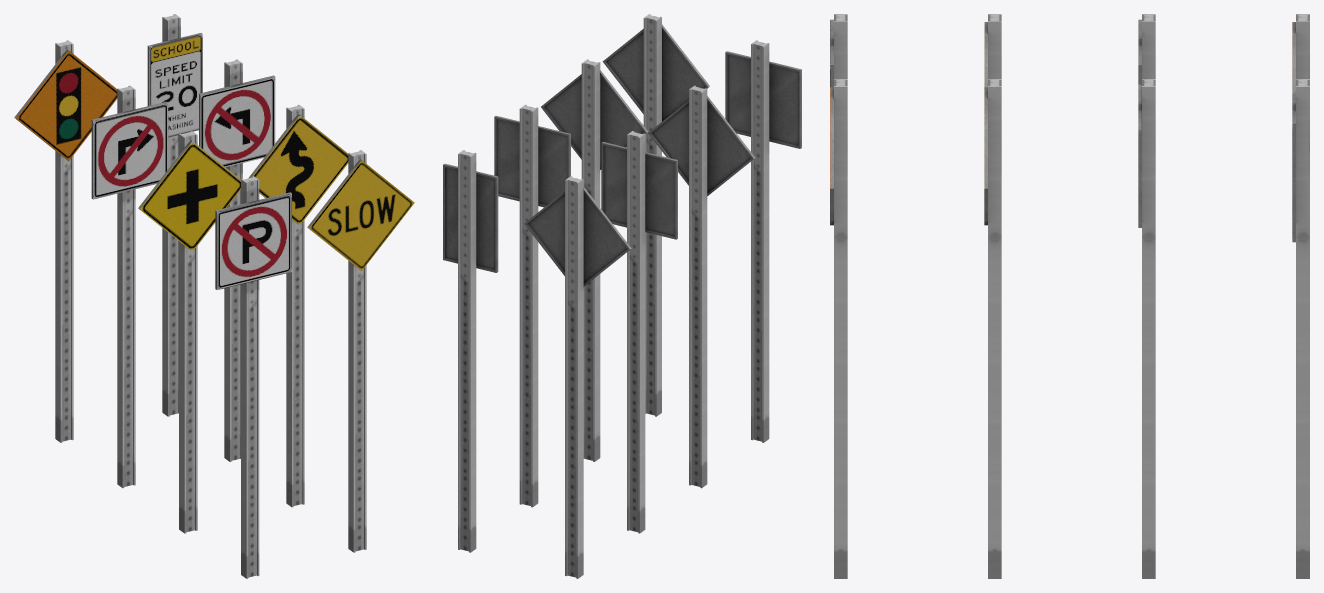
File: UrbanPack2 - RoadSigns.fbx
3 renders of one model, left to right at view 1: azimuth 30°, elevation 25°; view 2: azimuth 150°, elevation 25°; view 3: azimuth 270°, elevation 25°, orthographic. The views are drawn at different scales.
Parts seen in each view (by area): view 1: NoRightTurn, NoParking, SlowAhead, TrafficLightsAhead, CrossRoad, SeriesOfTurns, NoLeftTurn, SchoolZone; view 2: NoParking, NoRightTurn, NoLeftTurn, TrafficLightsAhead, CrossRoad, SchoolZone, SeriesOfTurns, SlowAhead; view 3: SchoolZone, NoLeftTurn, SeriesOfTurns, SlowAhead, NoParking, TrafficLightsAhead, CrossRoad, NoRightTurn.
Part boxes in pixels (<box>): NoRightTurn: <box>91,85,168,488</box>; NoParking: <box>215,176,291,578</box>; SlowAhead: <box>307,150,414,552</box>; TrafficLightsAhead: <box>14,40,117,442</box>; CrossRoad: <box>138,131,240,533</box>; SeriesOfTurns: <box>248,104,348,507</box>; NoLeftTurn: <box>199,59,275,461</box>; SchoolZone: <box>147,14,202,416</box>; NoParking: <box>725,40,801,442</box>; NoRightTurn: <box>601,131,677,533</box>; NoLeftTurn: <box>494,104,570,507</box>; TrafficLightsAhead: <box>524,176,631,578</box>; CrossRoad: <box>648,85,755,488</box>; SchoolZone: <box>443,150,498,552</box>; SeriesOfTurns: <box>541,59,647,461</box>; SlowAhead: <box>602,14,709,416</box>; SchoolZone: <box>1292,79,1309,578</box>; NoLeftTurn: <box>1138,79,1155,578</box>; SeriesOfTurns: <box>984,79,1001,578</box>; SlowAhead: <box>830,79,847,578</box>; NoParking: <box>830,14,847,87</box>; TrafficLightsAhead: <box>1292,14,1309,90</box>; CrossRoad: <box>984,14,1001,87</box>; NoRightTurn: <box>1138,14,1155,84</box>.
Bounding box in the file's own units: 398 × 705 × 623.
2 materials, 2 textured.
